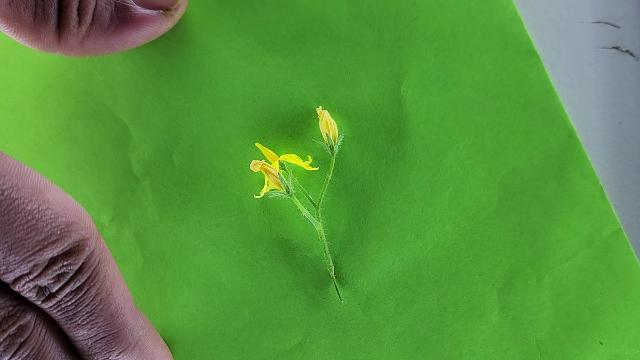Anthesis: (249, 140, 318, 198), (249, 158, 283, 188), (315, 105, 339, 147)
